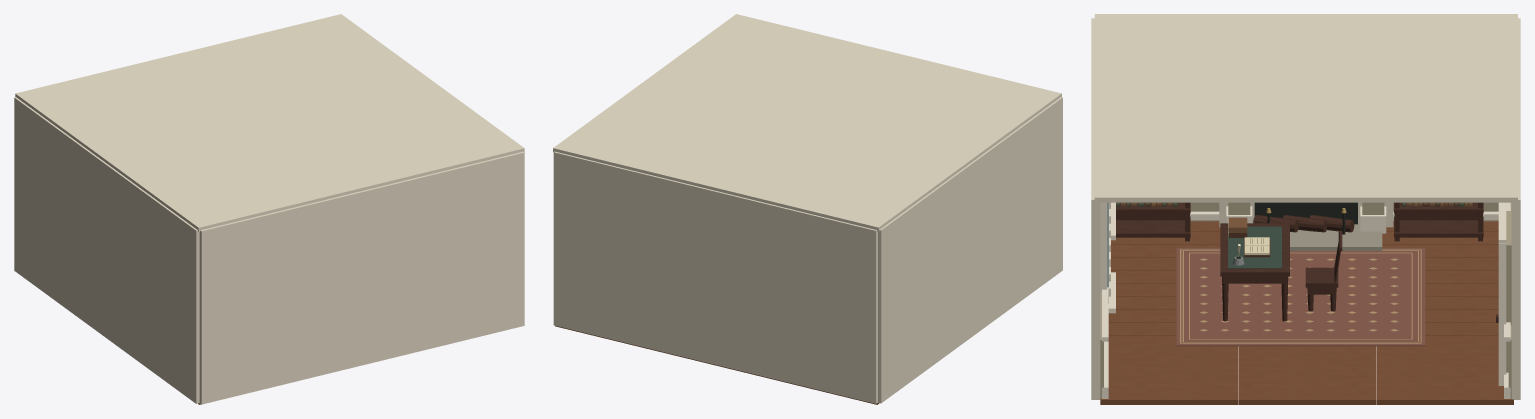
The model's file is library.glb.
3 views of the same model, side by side, from view 1: azimuth 30°, elevation 25°; view 2: azimuth 150°, elevation 25°; view 3: azimuth 270°, elevation 25° (orthographic). The views are drawn at different scales.
Parts seen in each view (by area): view 1: Plaster ceiling, South plaster, West plaster; view 2: Plaster ceiling, North plaster, West plaster; view 3: Plaster ceiling, Woven hearth rug, White ash flooring, White ash flooring.001, White ash flooring.002, White ash flooring.004, White ash flooring.003, Cabinet shelves, South plaster, North plaster, Woven borders, Writing table (+20 smaller).
Part boxes in pixels (x1,y1,x2,y2): Plaster ceiling: (15,14,524,231); South plaster: (199,151,524,404); West plaster: (14,97,199,403); Plaster ceiling: (553,14,1061,231); North plaster: (553,151,877,403); West plaster: (878,97,1062,403); Plaster ceiling: (1094,14,1517,202); Woven hearth rug: (1176,247,1425,346); White ash flooring: (1108,221,1498,404); White ash flooring.001: (1108,221,1503,393); White ash flooring.002: (1108,224,1513,404); White ash flooring.004: (1108,244,1503,386); White ash flooring.003: (1100,257,1498,404); Cabinet shelves: (1116,202,1483,237); South plaster: (1091,18,1100,399); North plaster: (1511,18,1520,399); Woven borders: (1180,249,1421,343); Writing table: (1220,223,1289,283).
Size of the model in its own units: 6.4 by 3.35 by 6.28.
Materials: 27 (7 with a texture image).
